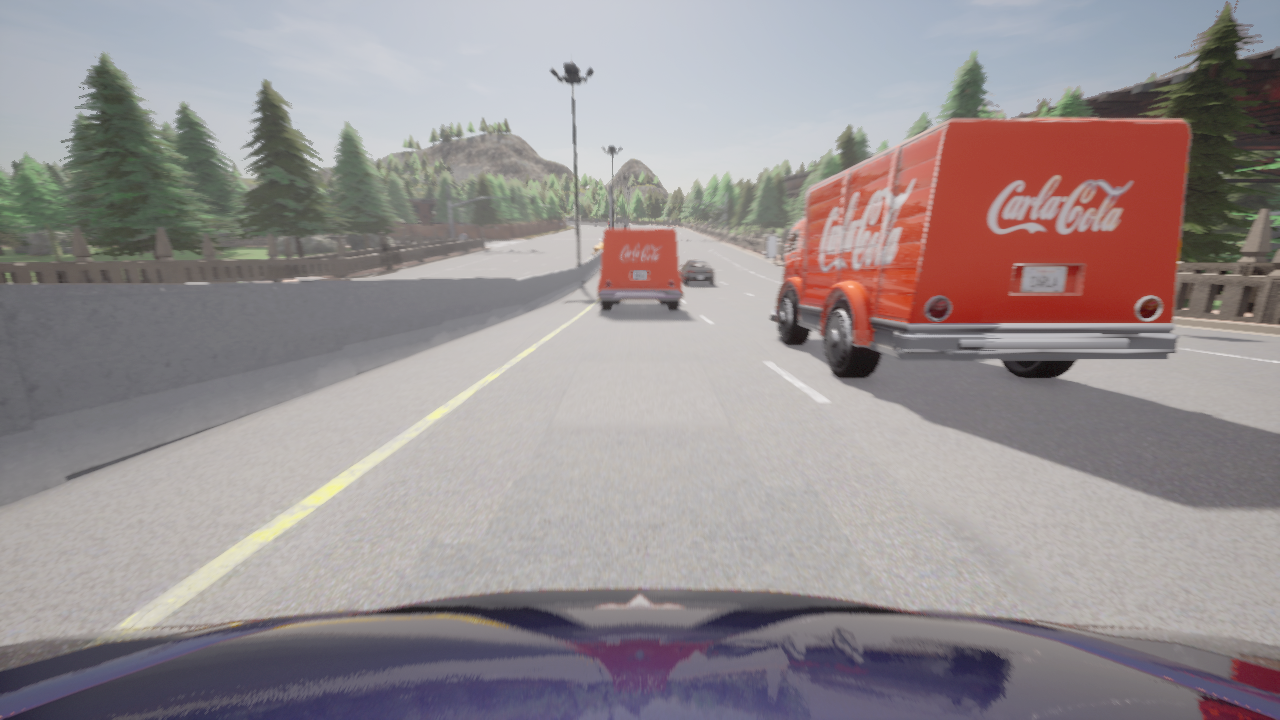cyclist: (0, 588, 1279, 719), (765, 118, 1190, 378), (598, 228, 682, 310), (680, 259, 713, 285)
